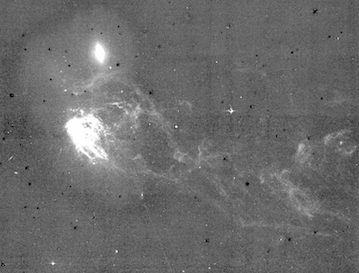Halpha: (98, 96, 359, 262), (212, 51, 359, 116), (47, 57, 155, 107)
